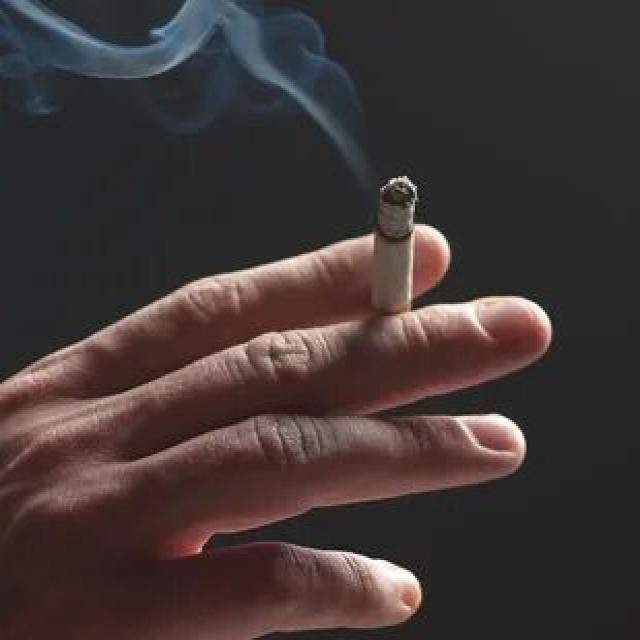cigarette: (362, 172, 424, 320)
